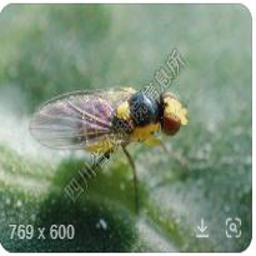liriomyza: (28, 86, 191, 214)
